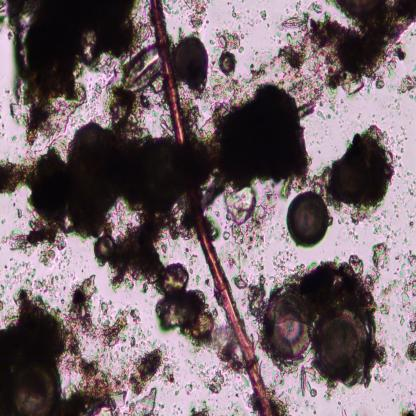Background material: (7, 0, 148, 150), (21, 123, 213, 232), (108, 220, 220, 352), (207, 86, 318, 192), (309, 118, 395, 228), (314, 0, 416, 84), (0, 297, 65, 416), (66, 268, 140, 352), (275, 28, 340, 119), (284, 256, 378, 312), (215, 176, 282, 246), (367, 241, 416, 333), (183, 73, 250, 136), (61, 355, 127, 416), (102, 85, 154, 141), (0, 226, 68, 264), (128, 344, 169, 396), (220, 242, 266, 286), (7, 258, 58, 297), (212, 325, 245, 377), (246, 278, 268, 351), (170, 0, 212, 36), (184, 356, 224, 393), (147, 88, 175, 139), (371, 200, 399, 240), (122, 388, 161, 416), (0, 158, 27, 198), (268, 379, 295, 416), (392, 120, 412, 168), (247, 48, 269, 88), (334, 201, 365, 228), (214, 28, 247, 52), (275, 247, 295, 286), (368, 333, 388, 371), (385, 43, 405, 78), (345, 73, 372, 98), (85, 80, 103, 116), (244, 389, 261, 416), (368, 310, 385, 335), (159, 363, 176, 388), (395, 74, 416, 94), (0, 0, 11, 38), (188, 399, 212, 416), (205, 214, 220, 241), (133, 326, 155, 344), (160, 0, 184, 15), (185, 248, 197, 276), (390, 343, 404, 366), (0, 278, 9, 313), (404, 340, 416, 366), (398, 399, 415, 416), (174, 383, 196, 396), (233, 374, 248, 393), (304, 0, 324, 14), (390, 95, 402, 116), (155, 238, 170, 254), (306, 379, 319, 397), (132, 306, 143, 327), (303, 10, 315, 29), (0, 102, 6, 138), (281, 225, 291, 246), (226, 401, 240, 416), (374, 72, 385, 90), (374, 371, 386, 386), (229, 5, 241, 20), (406, 210, 414, 232), (348, 230, 359, 243), (292, 401, 301, 416), (406, 184, 416, 196), (201, 276, 212, 286), (172, 404, 183, 414), (128, 338, 139, 347), (310, 402, 317, 416), (409, 26, 416, 39), (296, 1, 302, 16), (395, 382, 406, 390), (260, 9, 268, 20), (15, 209, 24, 218), (247, 18, 255, 28), (408, 90, 416, 100), (398, 194, 405, 205), (387, 84, 396, 92), (402, 234, 408, 245), (371, 113, 377, 124), (11, 135, 19, 143), (407, 390, 414, 399), (340, 407, 347, 416), (411, 374, 416, 385), (389, 395, 395, 403), (342, 104, 348, 112), (405, 332, 410, 341), (412, 61, 416, 72), (356, 112, 362, 119), (404, 366, 408, 376), (397, 367, 402, 374), (313, 131, 318, 138), (406, 171, 413, 176), (411, 178, 416, 185), (197, 276, 200, 286), (1, 219, 6, 225), (306, 401, 310, 408), (397, 172, 401, 179), (266, 22, 270, 29), (318, 149, 322, 155), (240, 0, 246, 4), (338, 400, 342, 405), (380, 116, 384, 121), (235, 393, 239, 398), (388, 362, 392, 366), (355, 411, 358, 416), (238, 25, 241, 30), (388, 102, 391, 107), (372, 398, 375, 402)
Diatom: (264, 288, 316, 366), (314, 312, 367, 380), (7, 357, 64, 416), (285, 190, 329, 247), (120, 42, 162, 93), (176, 37, 212, 84), (95, 234, 115, 265), (219, 51, 237, 77), (280, 16, 303, 30), (299, 364, 306, 396)
Microfibre: (150, 0, 273, 414)
